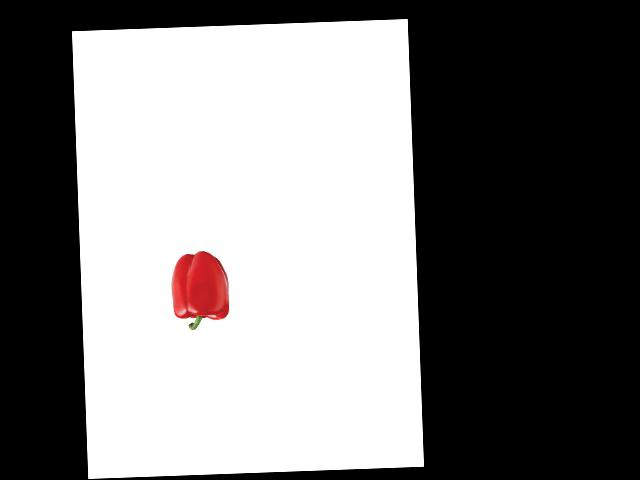bell_pepper: (167, 248, 233, 330)
